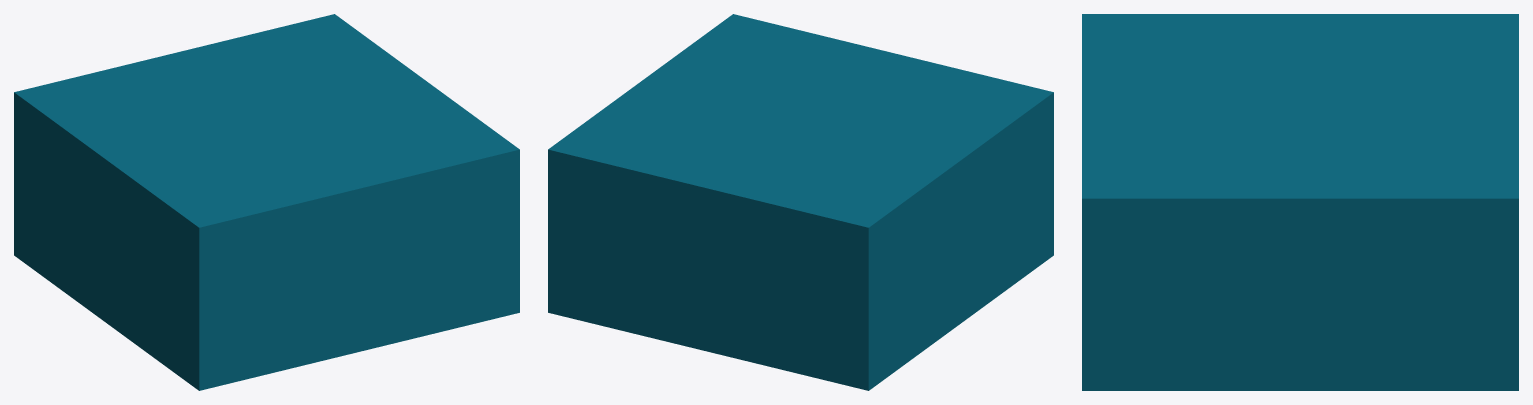
The model's file is shrub.DAE.
3 views of the same model, side by side, from view 1: azimuth 30°, elevation 25°; view 2: azimuth 150°, elevation 25°; view 3: azimuth 270°, elevation 25° (orthographic). The views are drawn at different scales.
Parts seen in each view (by area): view 1: bounds; view 2: bounds; view 3: bounds.
Boxes of the visible parts, x1,y1,x2,y2 form: bounds: [14, 14, 519, 390]; bounds: [548, 14, 1053, 390]; bounds: [1082, 14, 1518, 390].
Size of the model in its own units: 41.67 by 41.67 by 20.26.
